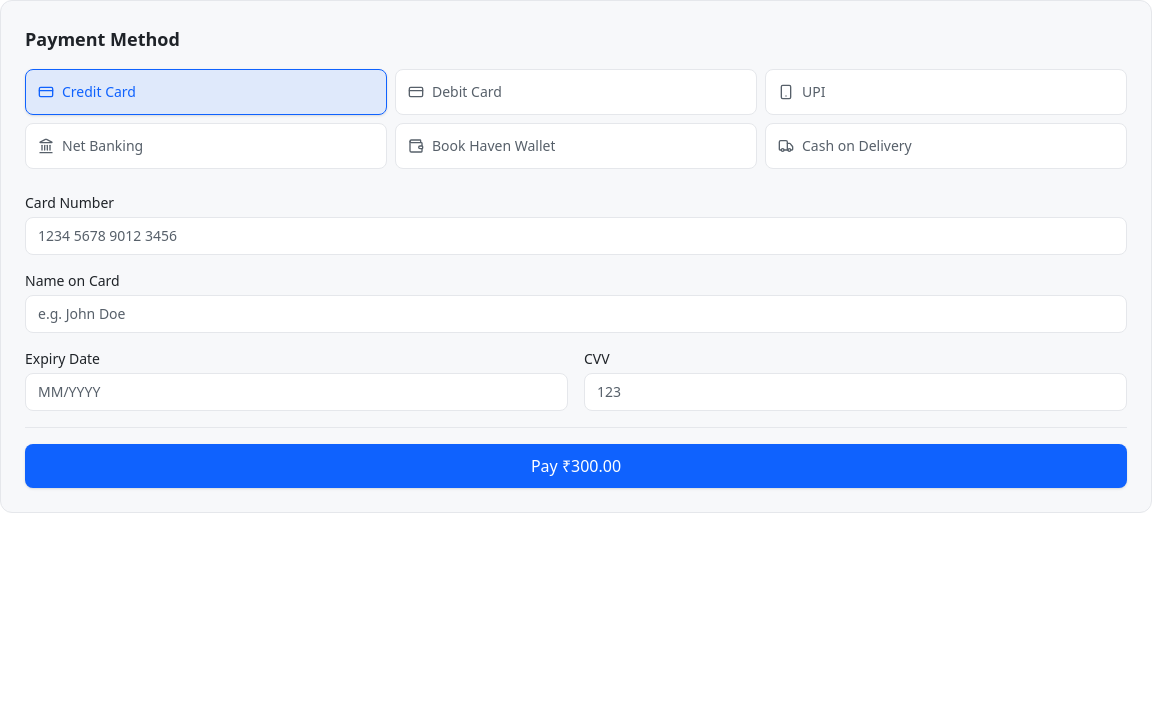
PaymentTabsTest › noBankBlocksSubmit: blocks submit on unselected bank
Click the tab "Net Banking" at (103, 146), box x1=25 y1=123 x2=387 y2=169
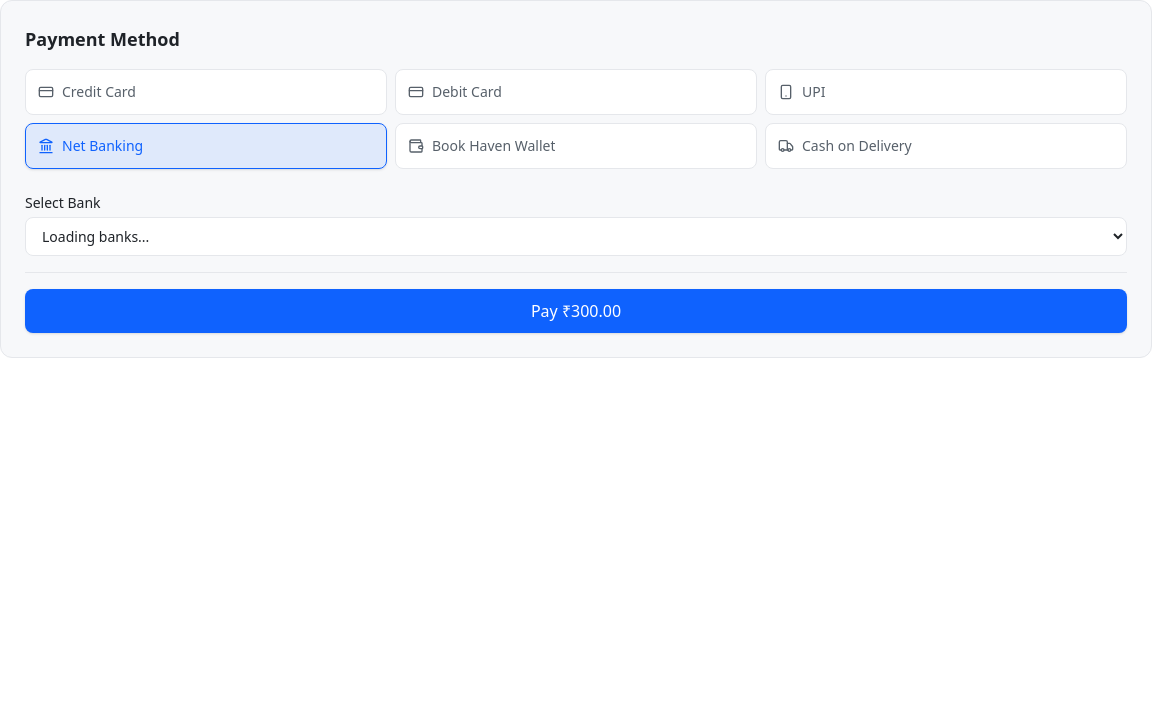
Click the button "Pay ₹300.00" at (576, 311), box x1=25 y1=289 x2=1127 y2=333
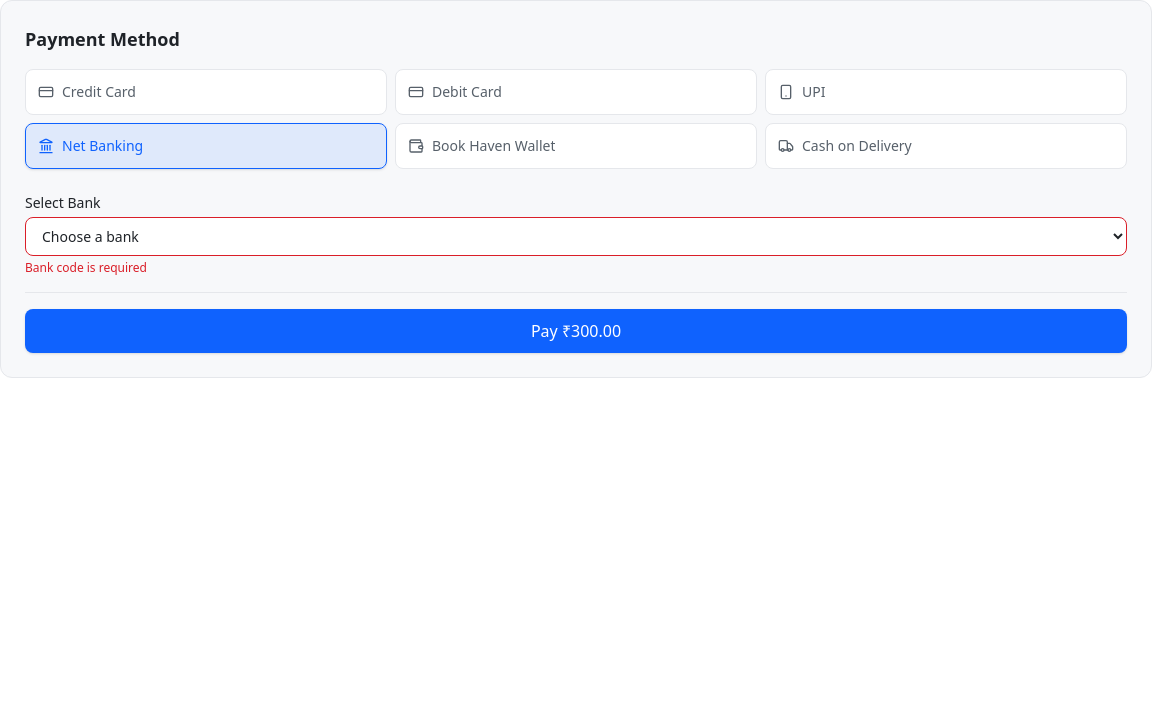
expect the text "Bank code is required" is shown: met, box x1=25 y1=259 x2=147 y2=276
